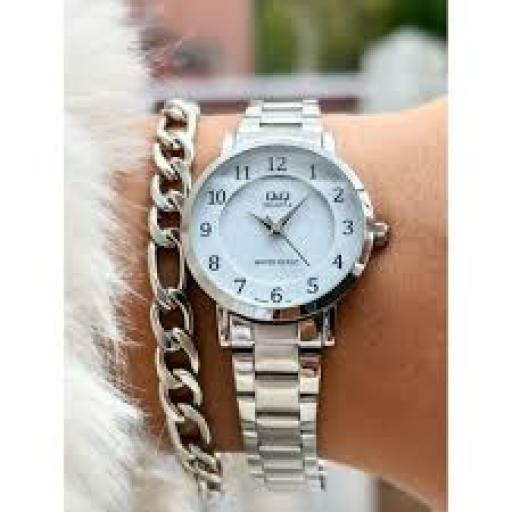KolSaati: (180, 78, 396, 500)
